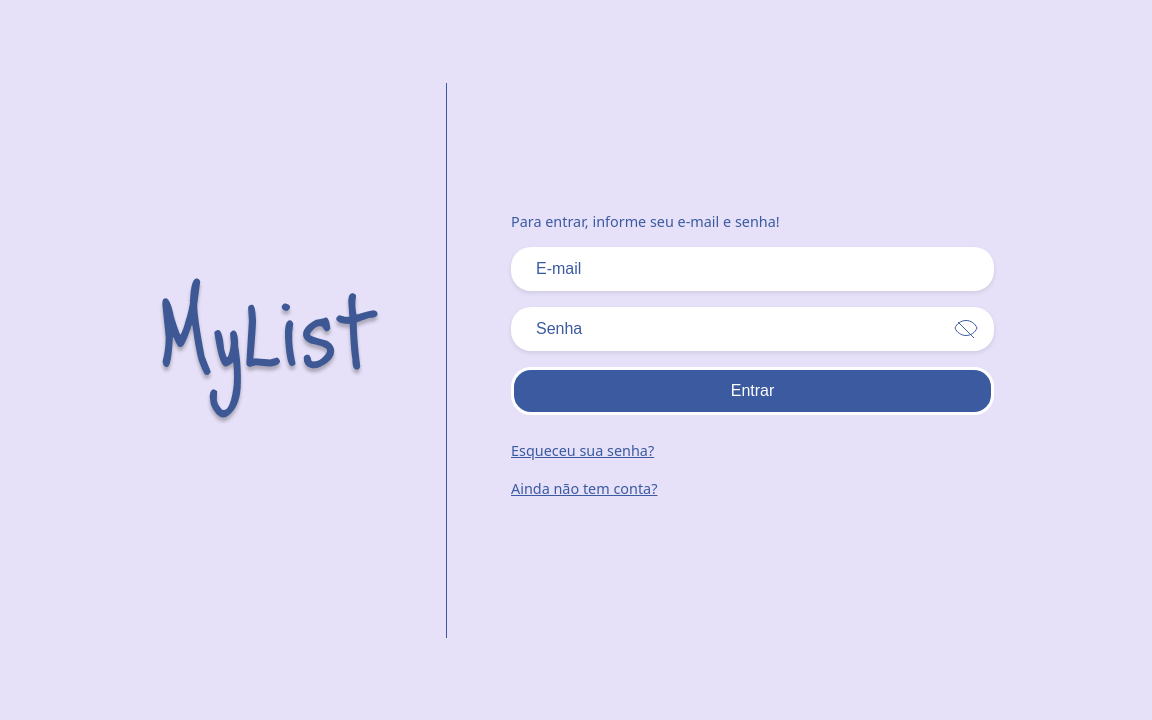
Test: shows error message on network error
In the field with placeholder "E-mail": (752, 269) [511,247,994,291], type "test@example.com"
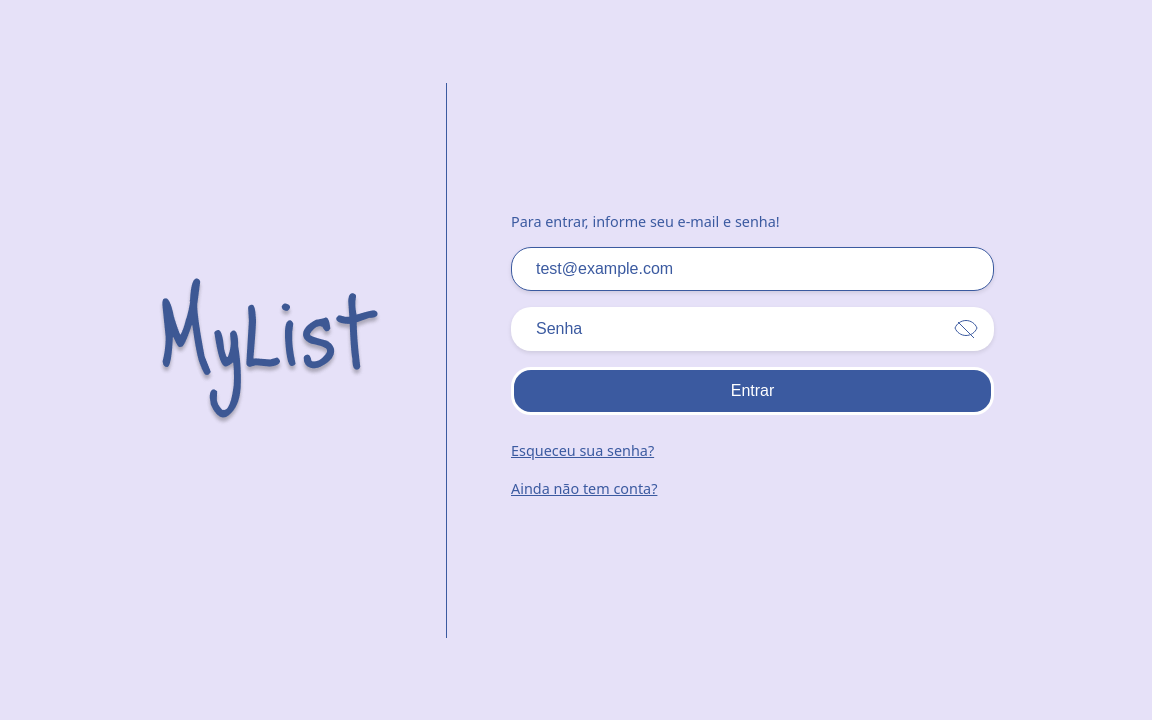
In the password field with placeholder "Senha": (752, 329) [511,307,994,351], type "password"
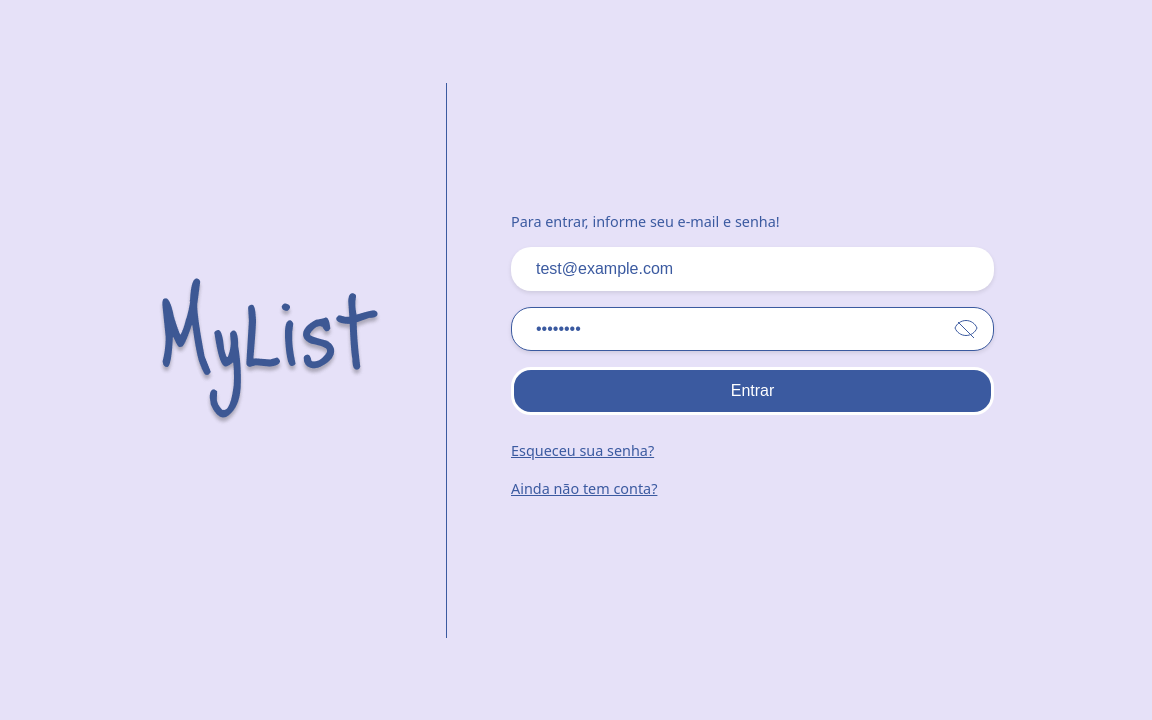
Click the button "Entrar": (752, 391) [511,367,994,415]
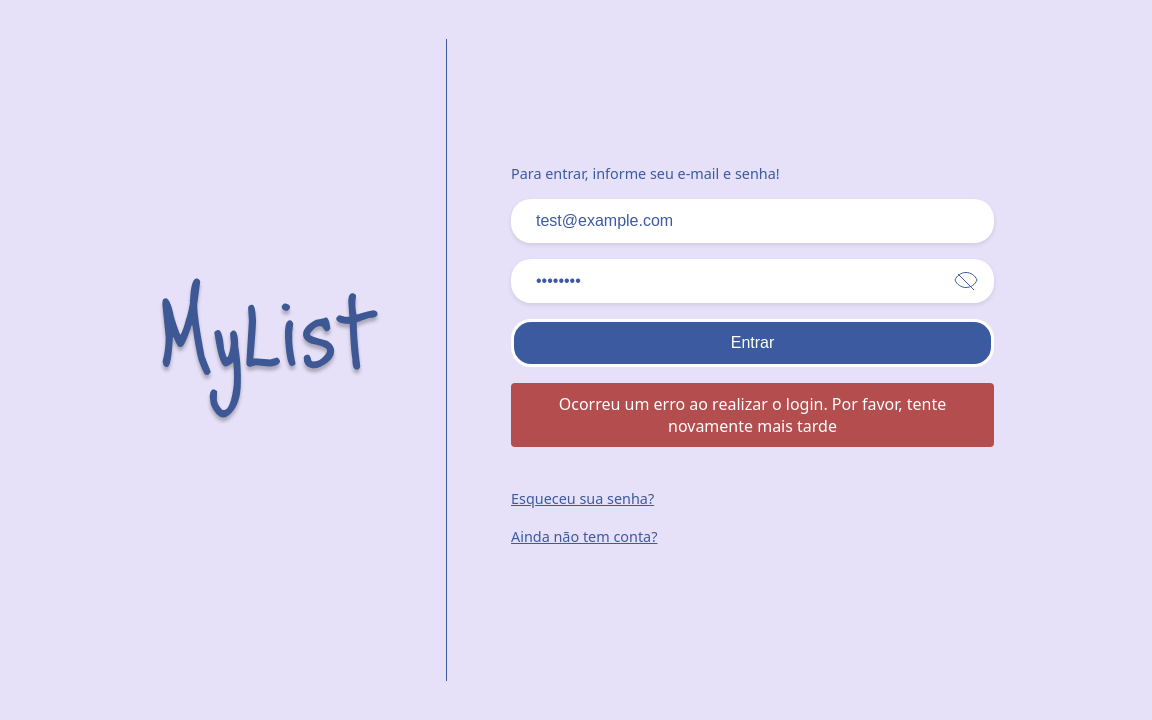
Now the text "Ocorreu um erro" is shown, box [559,393,946,437]
